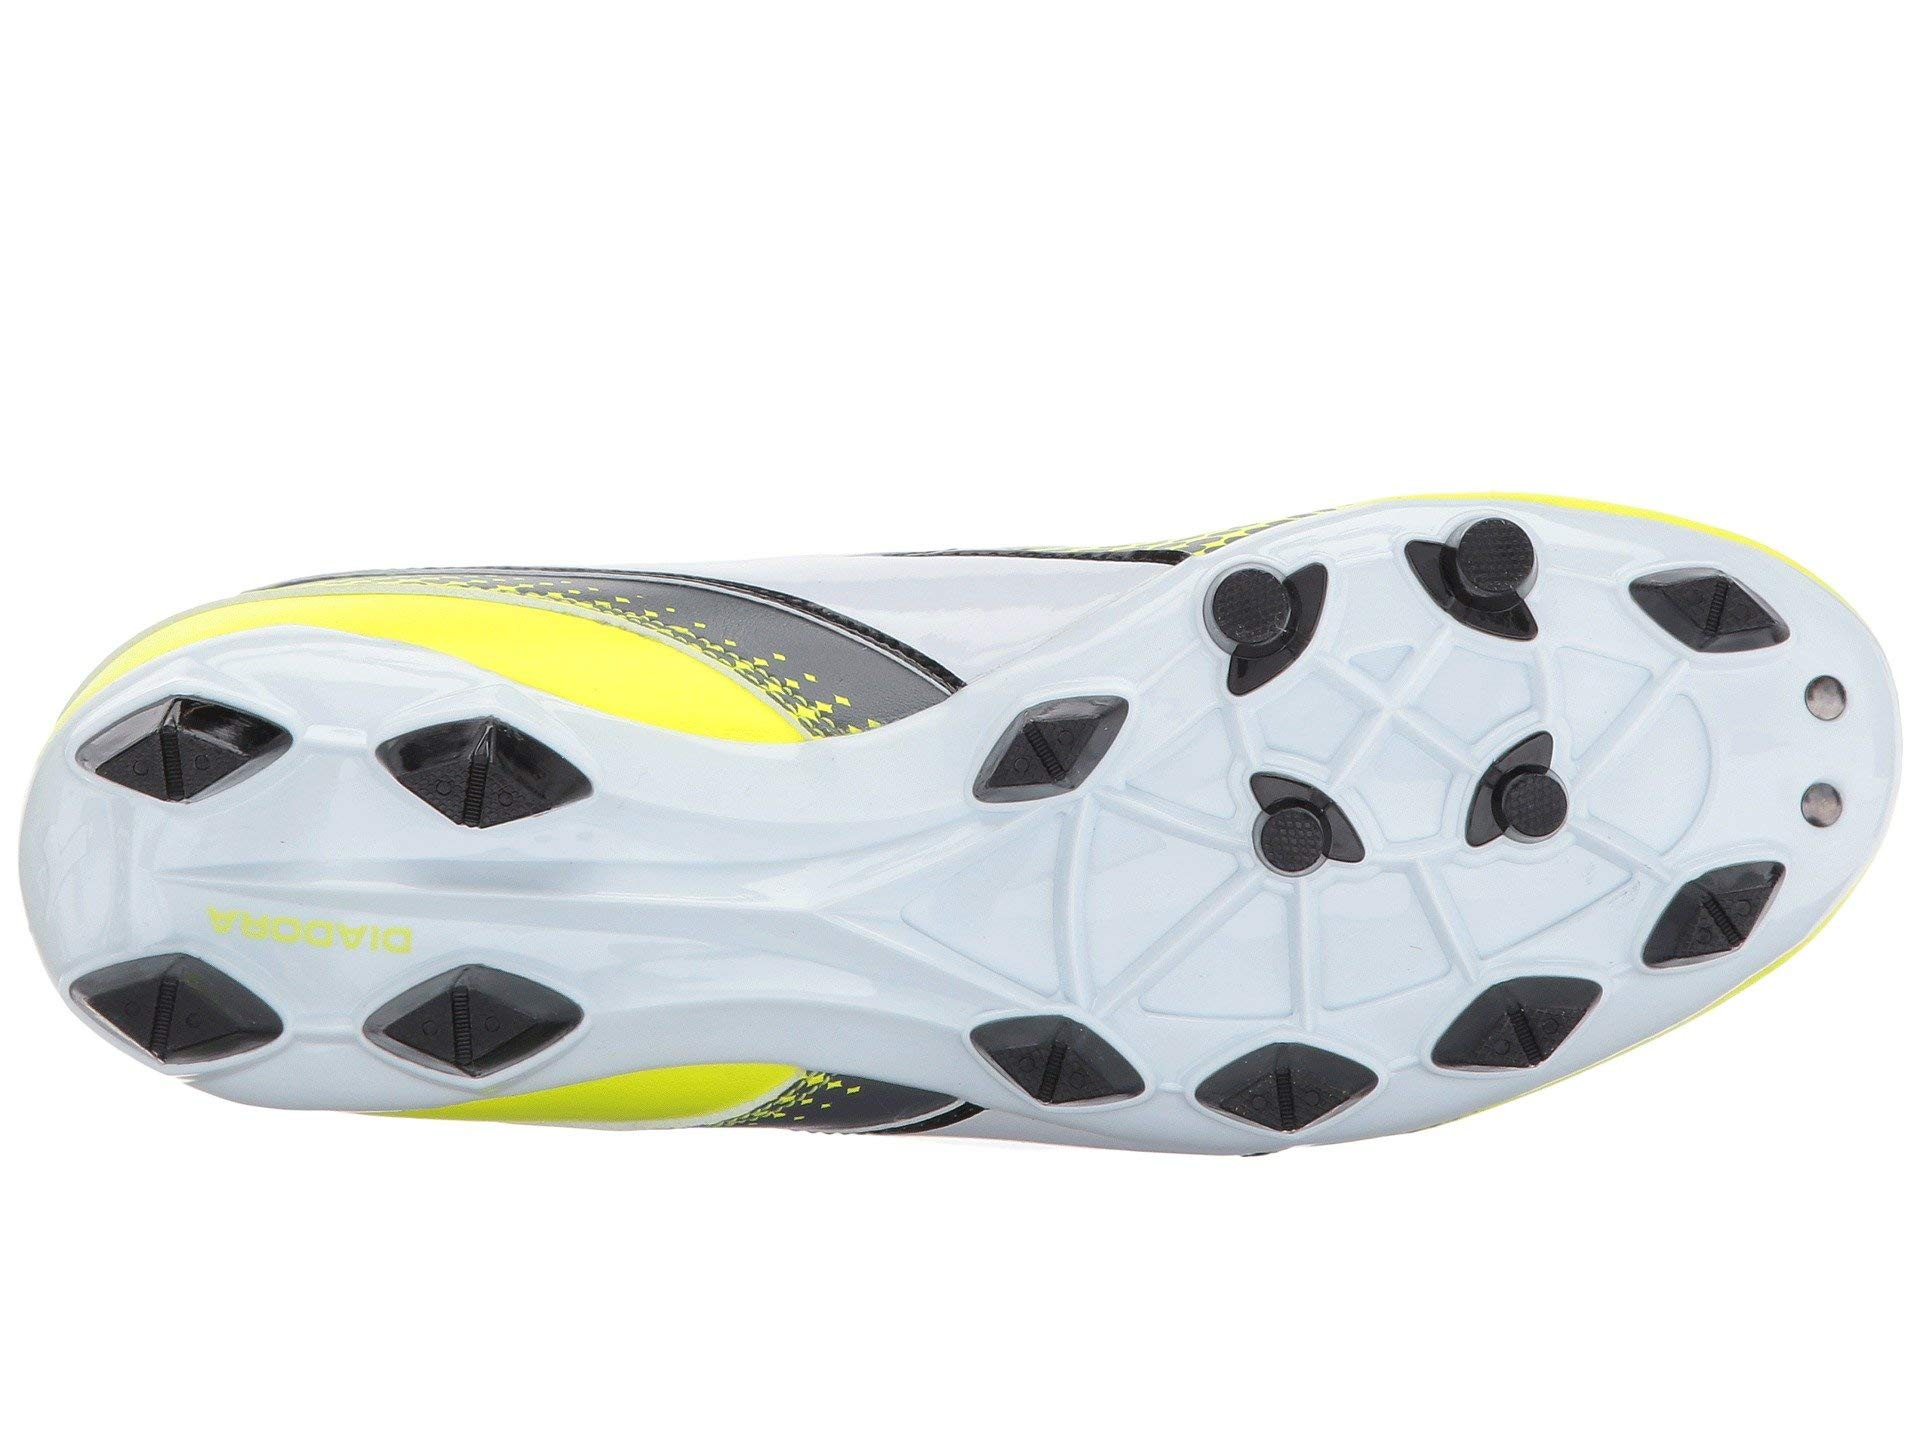circle: (1231, 601, 1503, 902), (1722, 644, 1878, 827)
polygon: (1231, 601, 1503, 902)
triangle: (1231, 601, 1503, 902), (815, 784, 1082, 998)
